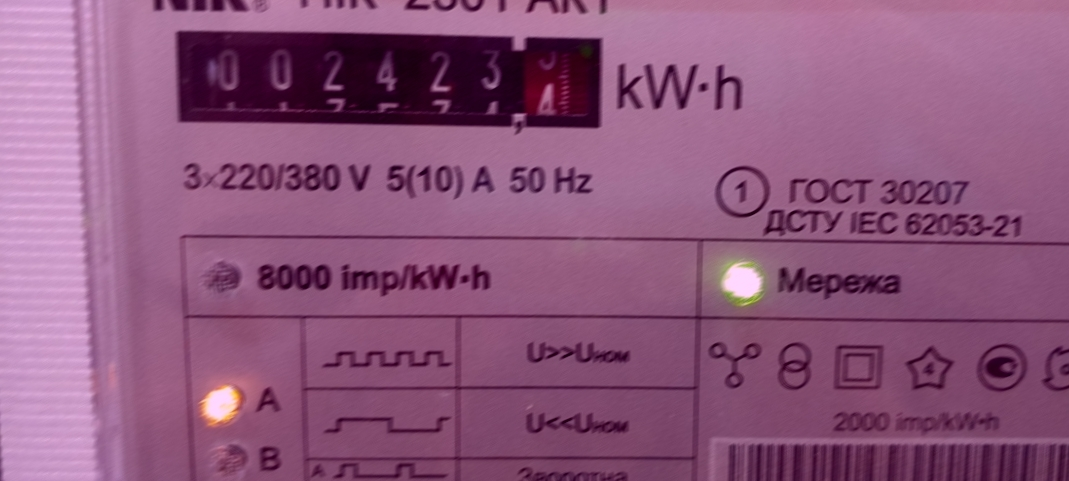0: (214, 43, 241, 92), (267, 44, 293, 90)
2: (319, 44, 346, 91), (426, 46, 451, 92)
3: (477, 44, 502, 90), (536, 46, 557, 69)
4: (373, 45, 397, 91), (533, 77, 558, 115)
screen: (162, 13, 615, 144)
